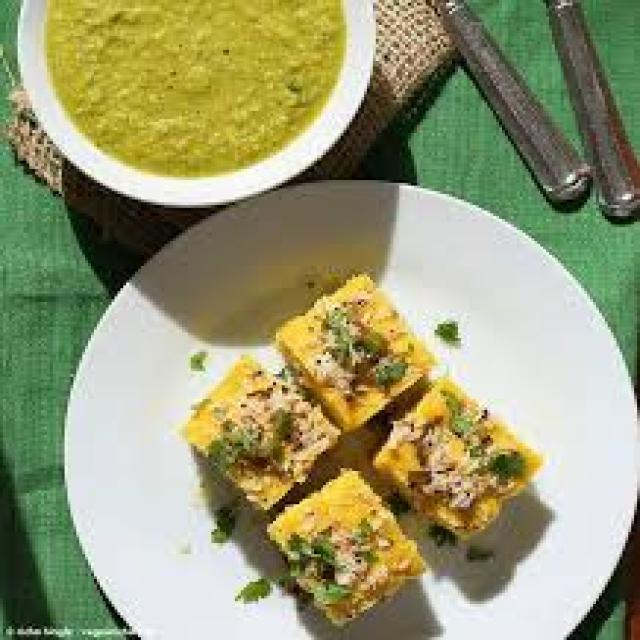DHOKLA: (375, 378, 543, 546), (273, 274, 429, 434), (185, 359, 345, 513), (275, 463, 425, 627)
